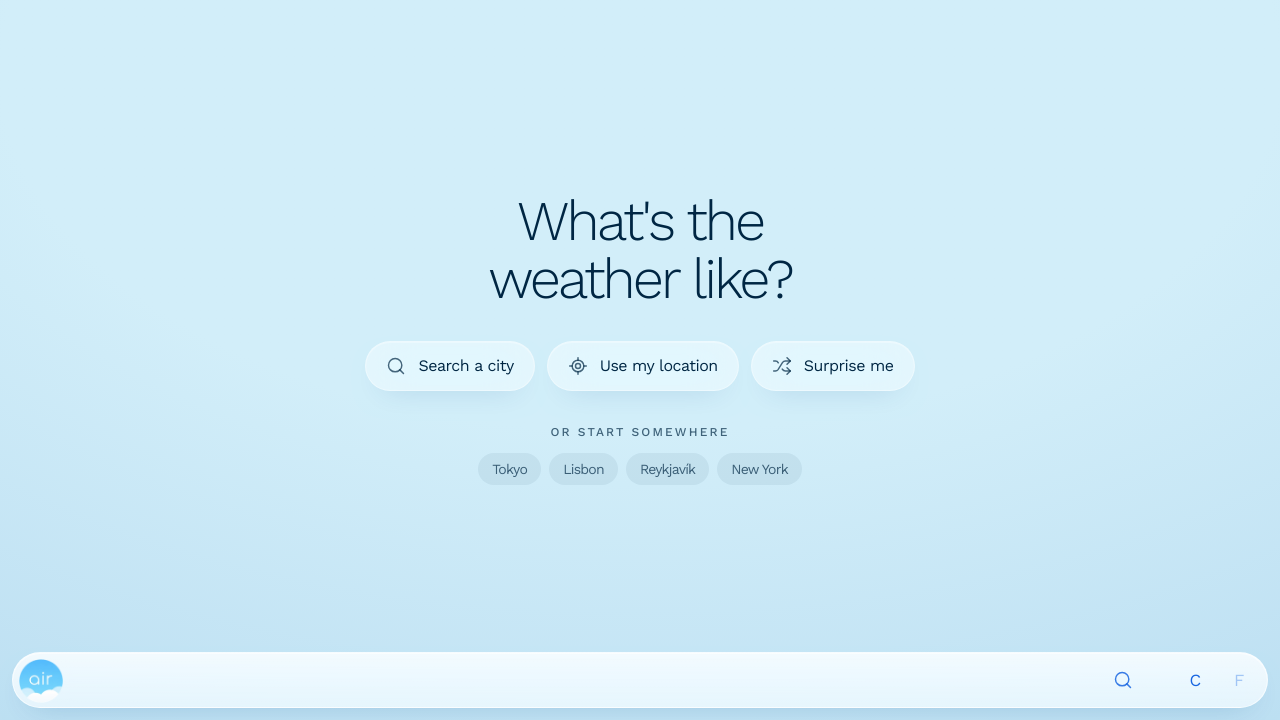
it: nav shell › a not_found reaches the panel after one request, with no retry
Click the button named "Search".
click(1123, 680)  # box x1=1101 y1=658 x2=1145 y2=702
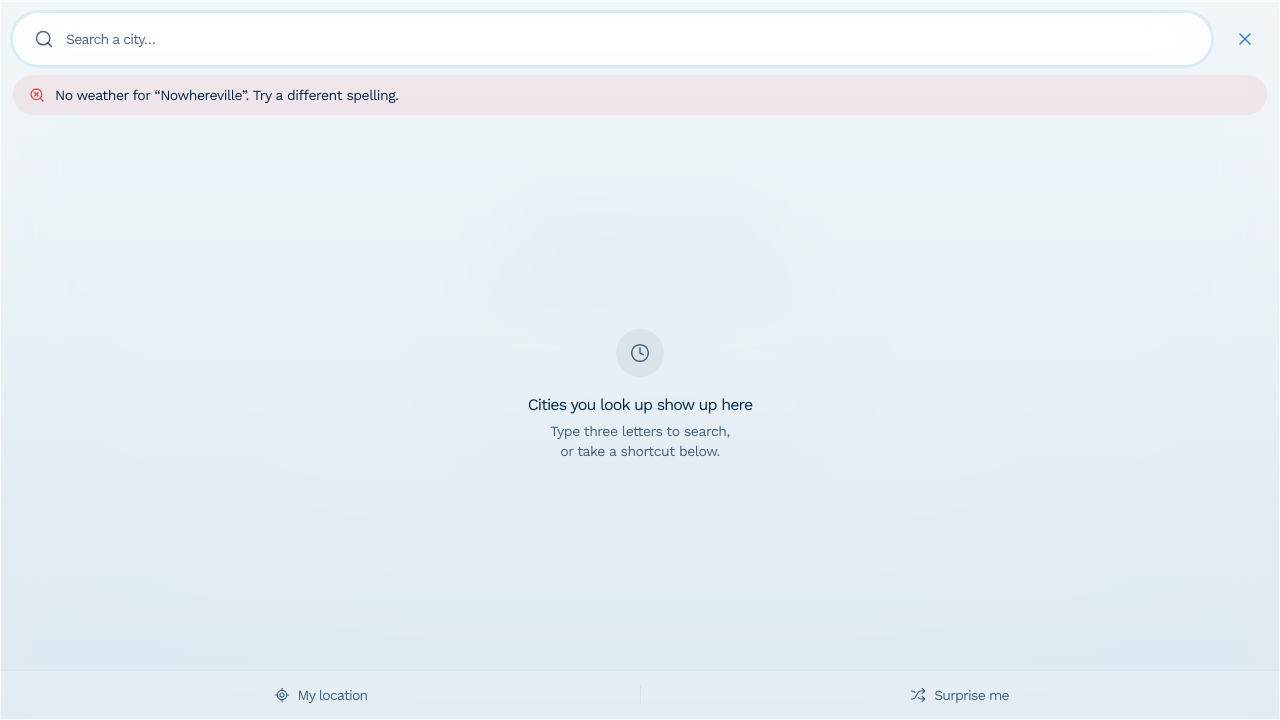
Result: the message shows "No weather for “Nowhereville”" at x1=55 y1=87 x2=398 y2=103
Result: the dialog is shown
